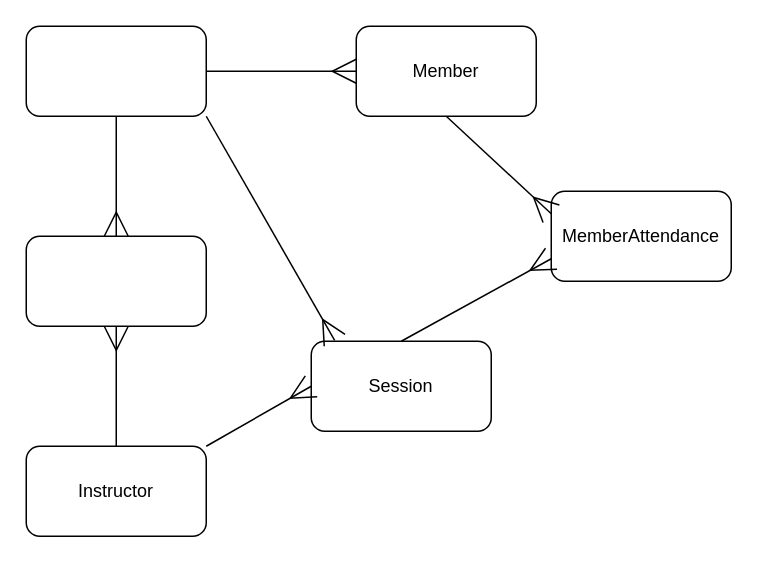
Image size: 758x563. Some labels were removed from this diagram. The shapes that lost their labels are listed below. From the top down, each one's centre as x and y in pixels, then its label:
At (x=115, y=70): "Centre".
At (x=115, y=280): "InstructorAssignment".
